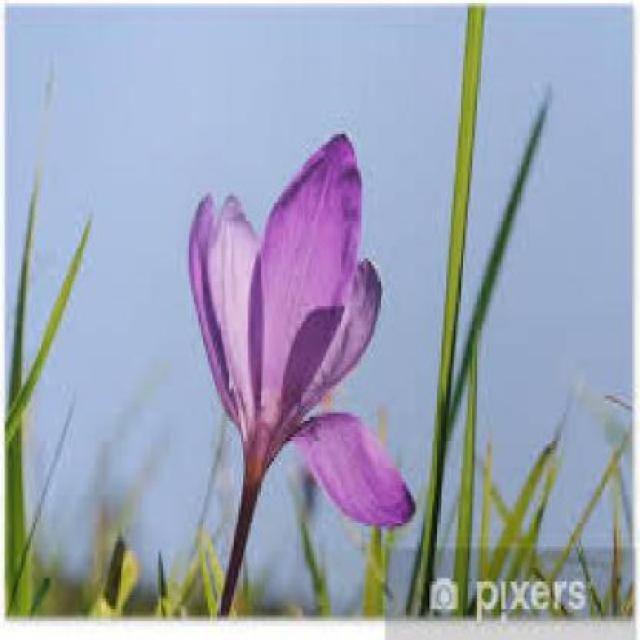Flower: (186, 136, 419, 532)
